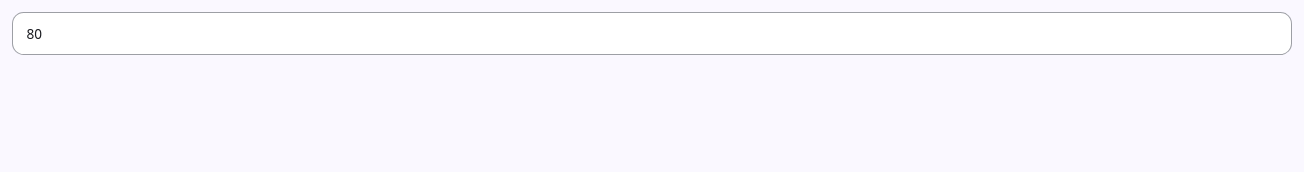
Test case: NumberInput › propagates valid in-range values and suppresses invalid intermediate text
# Clearing input marks invalid without emitting 0
Clear the number field named "分数": (652, 33) [12,12,1292,55]
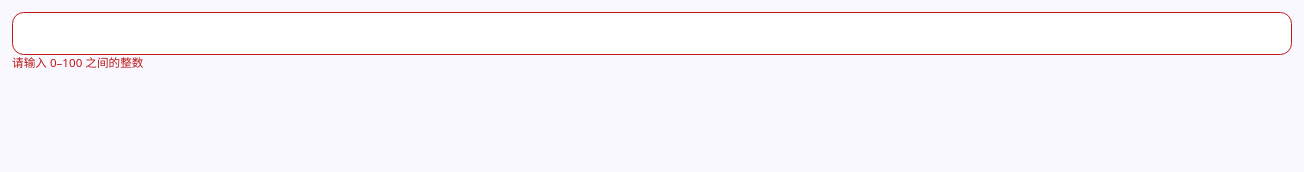
Expected: the number field named "分数" is marked as invalid
In the number field named "分数": (652, 33) [12,12,1292,55], type "12.5"
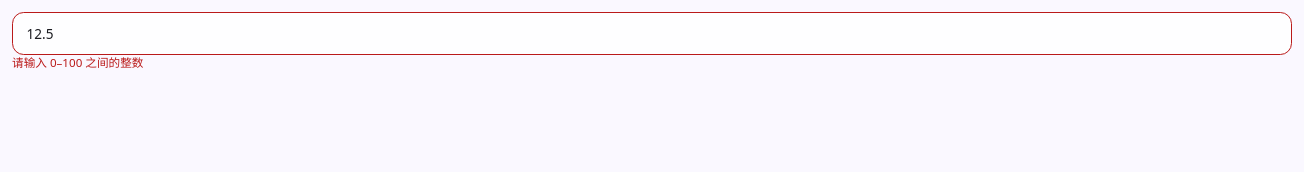
Expected: the number field named "分数" is marked as invalid
# Valid integer accepted
Replace the text in the number field named "分数" with "95": (652, 33) [12,12,1292,55]
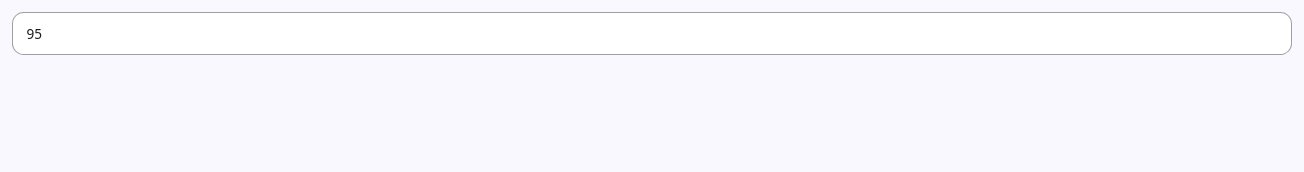
Expected: the number field named "分数" is not marked as invalid, [12,12,1292,55]
